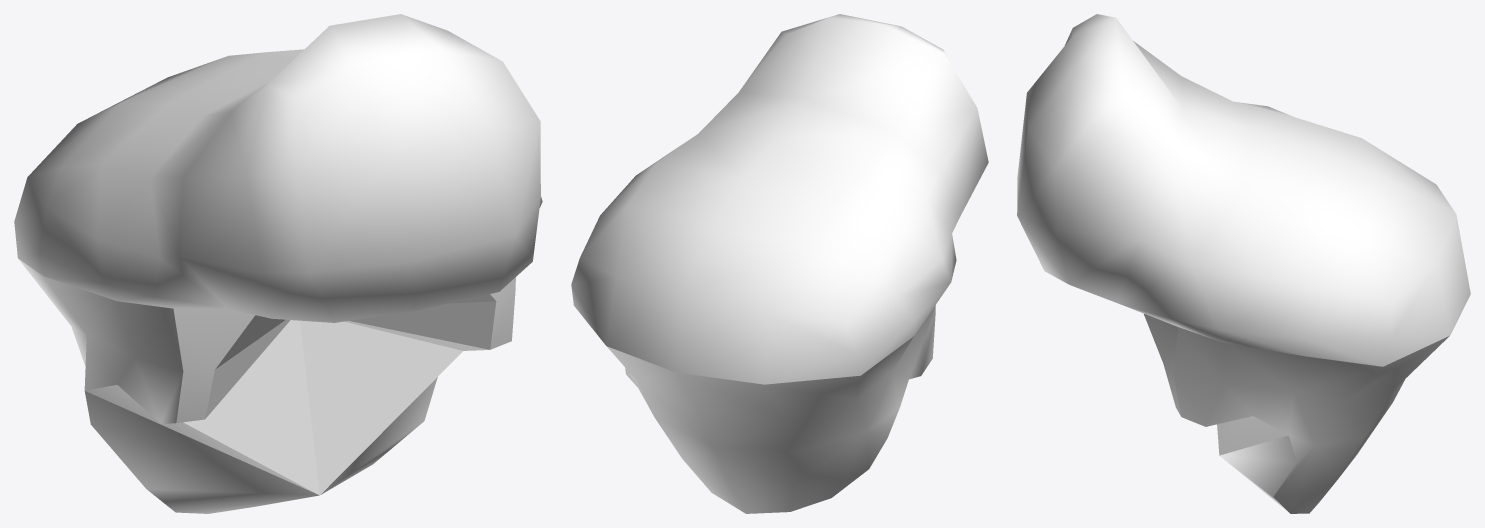
Rendered from Male_Hairs_07_v3.fbx.
3 renders of one model, left to right at view 1: azimuth 30°, elevation 25°; view 2: azimuth 150°, elevation 25°; view 3: azimuth 270°, elevation 25°, orthographic. The views are drawn at different scales.
Visible parts, largest first — view 1: Male_Hairs_07_v3; view 2: Male_Hairs_07_v3; view 3: Male_Hairs_07_v3.
Boxes of the visible parts, x1=… form: Male_Hairs_07_v3: x1=14, y1=14, x2=542, y2=513; Male_Hairs_07_v3: x1=571, y1=14, x2=988, y2=513; Male_Hairs_07_v3: x1=1017, y1=14, x2=1470, y2=513.
Size of the model in its own units: 67.67 by 85.55 by 76.11.
